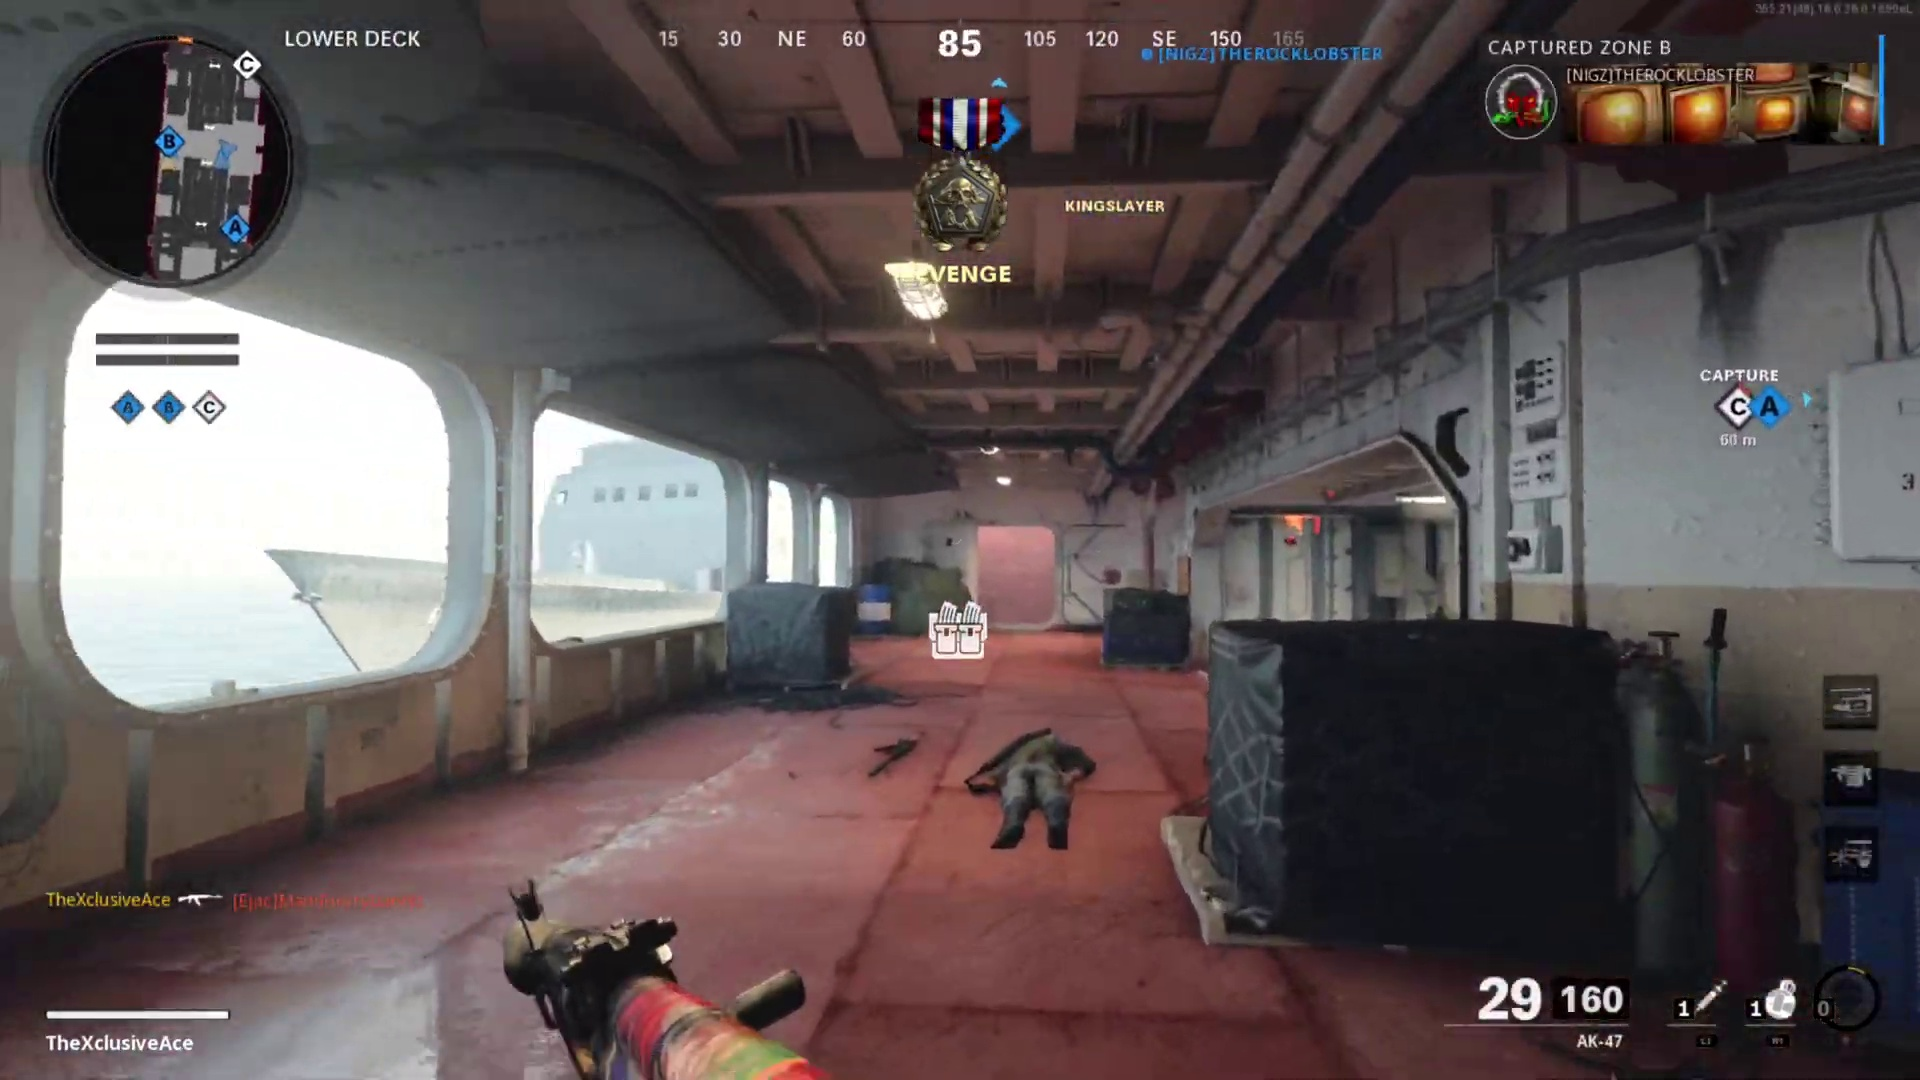person: (963, 728, 1095, 848)
